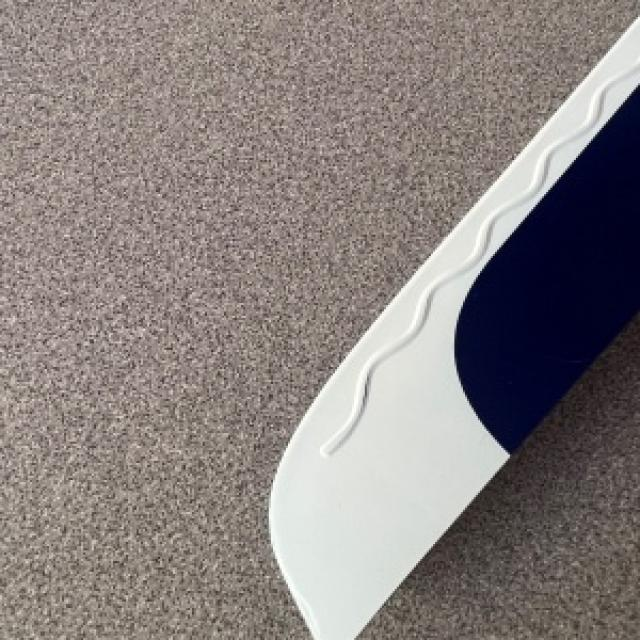healthy: (269, 17, 638, 638)
